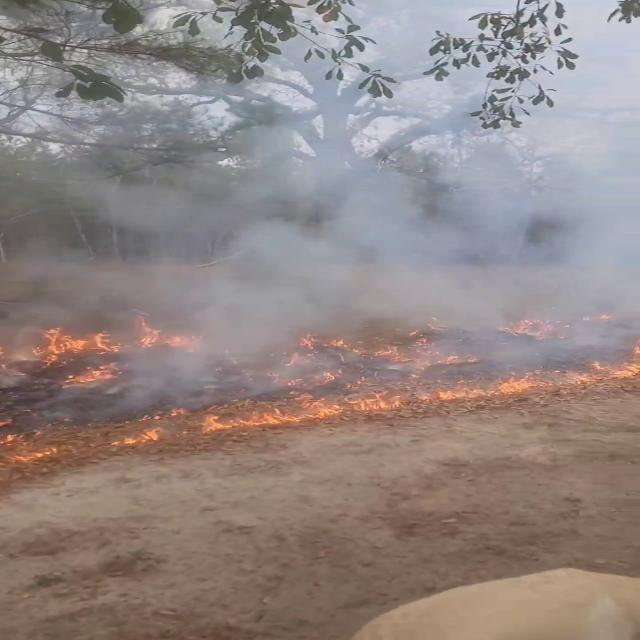Fire: (220, 388, 440, 427), (22, 324, 126, 386)
Smoke: (4, 4, 638, 410)
